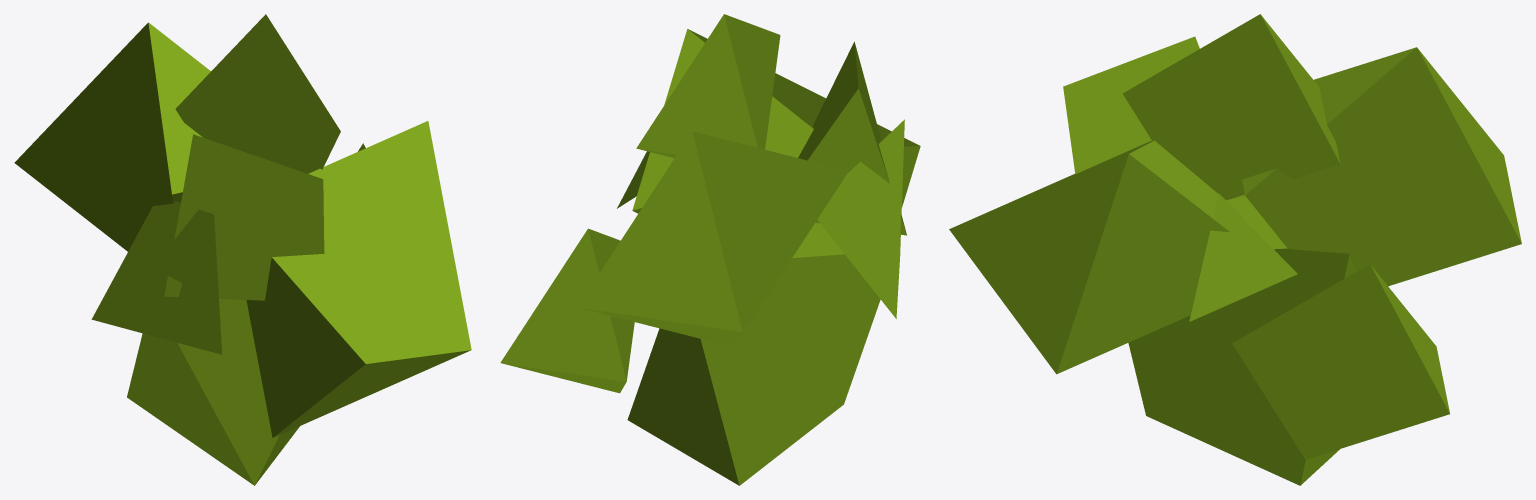
Rendered from tree-summer-leaves-020.glb.
3 views of the same model, side by side, from view 1: azimuth 30°, elevation 25°; view 2: azimuth 150°, elevation 25°; view 3: azimuth 270°, elevation 25° (orthographic). The views are drawn at different scales.
Visible parts, largest first — view 1: Cube.017_245; view 2: Cube.017_245; view 3: Cube.017_245.
Part boxes in pixels (x1,y1,x2,y2): Cube.017_245: (14, 14, 471, 485); Cube.017_245: (500, 14, 920, 485); Cube.017_245: (949, 14, 1521, 485).
Size of the model in its own units: 0.7351 by 0.9493 by 1.13.
